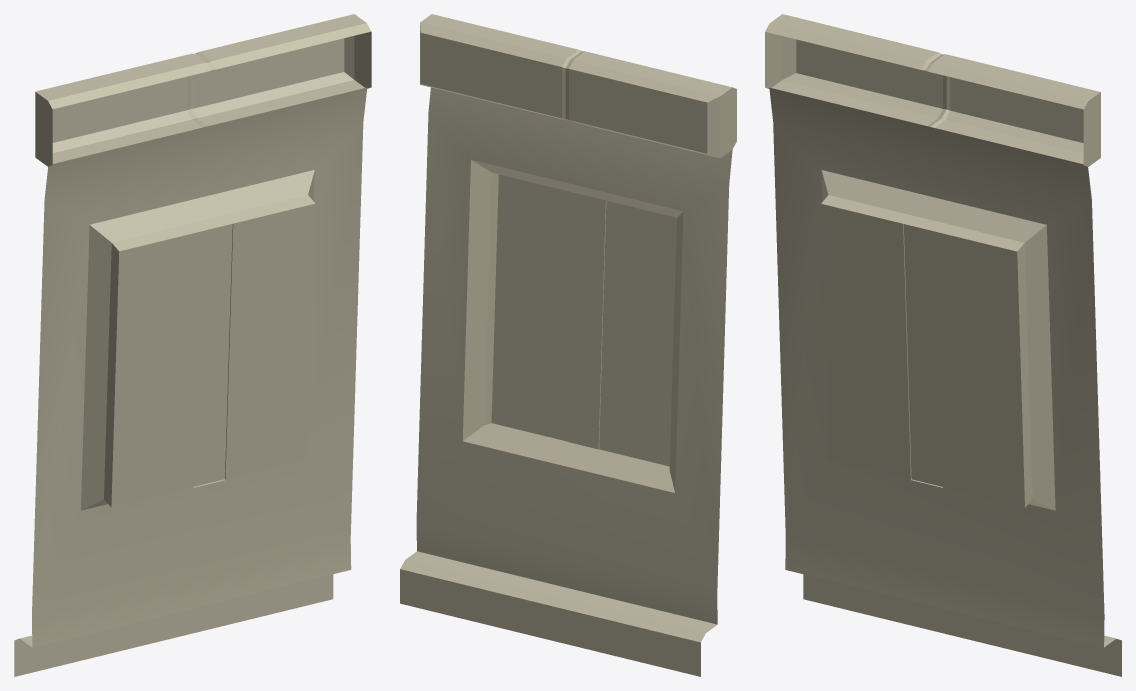
The model's file is WallWindow.fbx.
The picture shows the model from 3 angles, left to right: view 1: azimuth 30°, elevation 25°; view 2: azimuth 150°, elevation 25°; view 3: azimuth 330°, elevation 25°; orthographic projection. The views are drawn at different scales.
Parts seen in each view (by area): view 1: Wall_Window; view 2: Wall_Window; view 3: Wall_Window.
Part boxes in pixels (x1,y1,x2,y2): Wall_Window: [14, 14, 371, 676]; Wall_Window: [400, 14, 736, 676]; Wall_Window: [765, 14, 1121, 676].
Bounding box in the file's own units: 1 × 1.8 × 0.2359.
